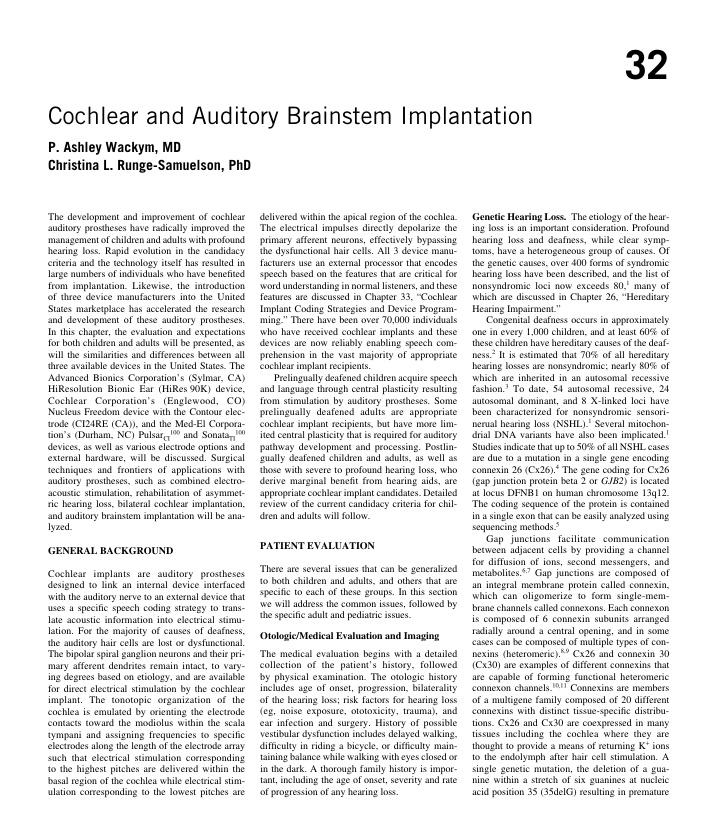chapter-heading: (47, 104, 534, 132)
section-heading: (47, 546, 174, 556), (259, 541, 376, 550)
sub-section-heading: (259, 630, 440, 642), (471, 211, 567, 223)
text: (470, 210, 670, 799), (46, 211, 247, 534), (258, 211, 459, 521), (46, 569, 247, 799), (259, 649, 459, 799), (259, 563, 458, 623)
